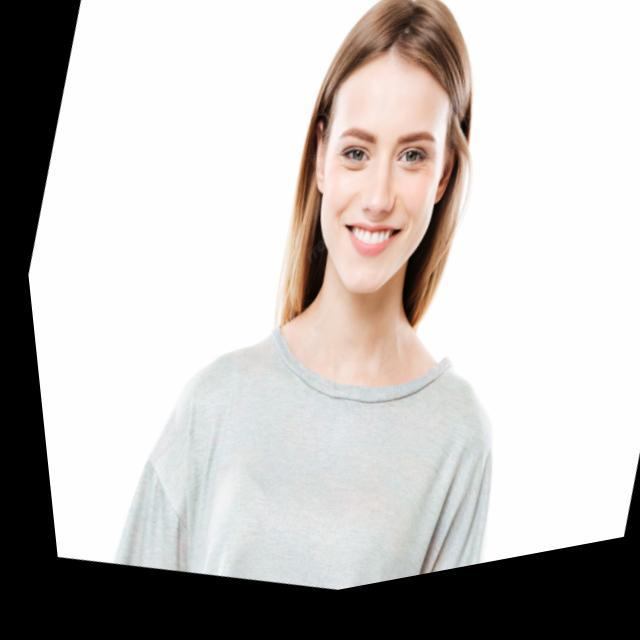Nonhelmet: (275, 0, 475, 306)
